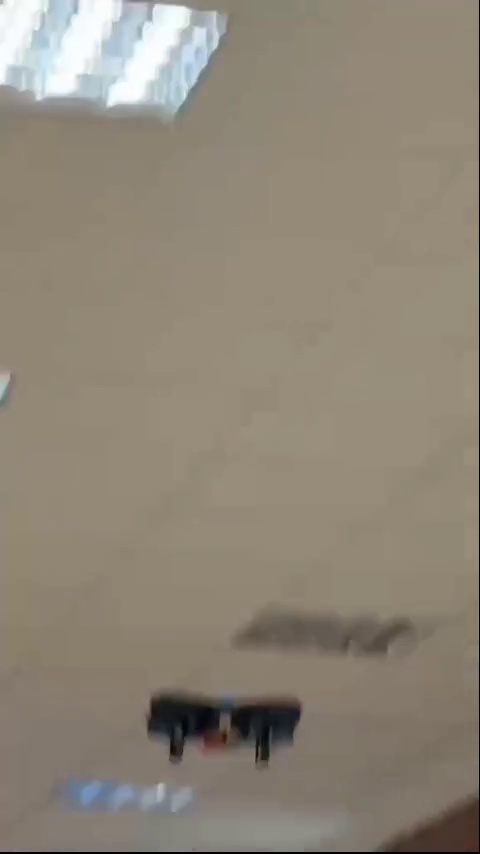drone: (146, 694, 295, 767)
